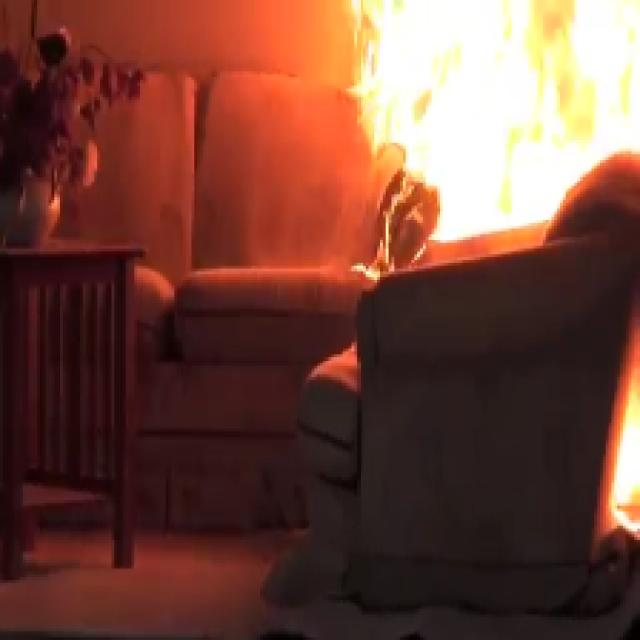fire: (355, 0, 629, 223)
